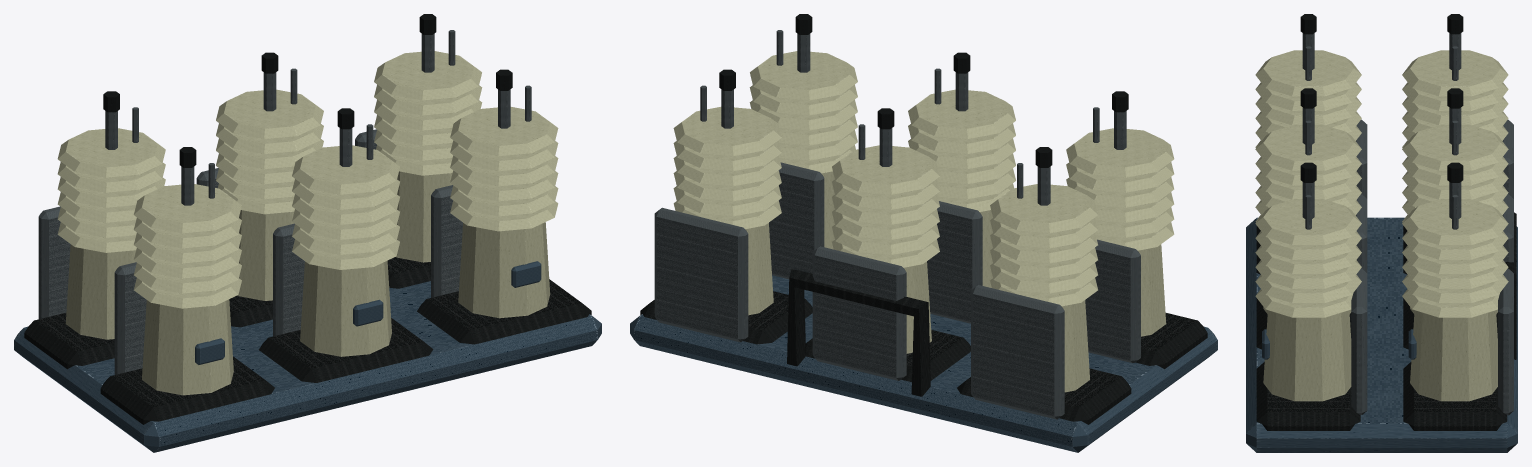
The model's file is blender_thermal_beacon_3.glb.
3 renders of one model, left to right at view 1: azimuth 30°, elevation 25°; view 2: azimuth 150°, elevation 25°; view 3: azimuth 270°, elevation 25°, orthographic. The views are drawn at different scales.
Visible parts, largest first — view 1: blender_thermal_beacon_3; view 2: blender_thermal_beacon_3; view 3: blender_thermal_beacon_3.
Boxes of the visible parts, box(x1,y1,x2,y2) form: blender_thermal_beacon_3: box(14, 14, 601, 452); blender_thermal_beacon_3: box(630, 14, 1217, 452); blender_thermal_beacon_3: box(1246, 14, 1517, 452).
Size of the model in its own units: 0.191 by 0.107 by 0.102.
4 materials, 4 textured.
